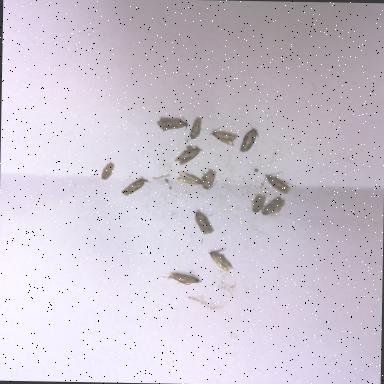pbw: (260, 171, 294, 194), (158, 270, 203, 286), (208, 248, 234, 272), (121, 176, 152, 196), (174, 146, 202, 166), (209, 127, 238, 146), (185, 116, 205, 142), (156, 116, 188, 132), (194, 210, 214, 235), (240, 127, 259, 153), (262, 196, 286, 216), (201, 169, 218, 190), (96, 162, 115, 180), (176, 172, 204, 184), (252, 193, 266, 213)
